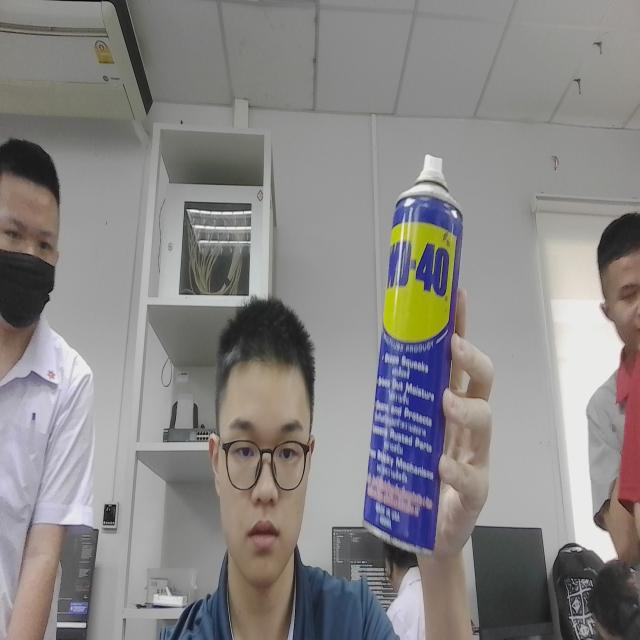wd-40: (355, 130, 470, 558)
